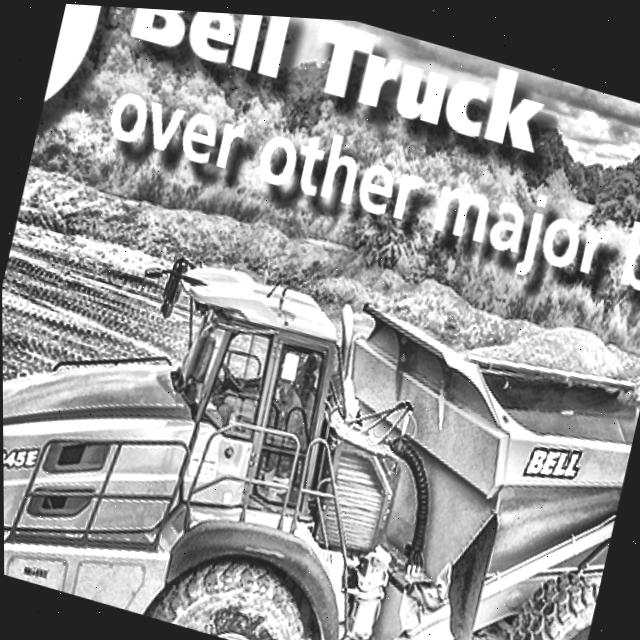dump_truck: (1, 179, 640, 640)
